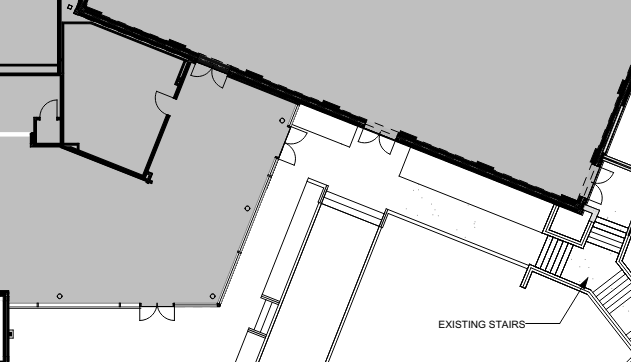door: (151, 89, 179, 117), (38, 97, 60, 123)
double door: (269, 125, 309, 169), (357, 124, 396, 162), (582, 167, 616, 207), (137, 300, 177, 324)
